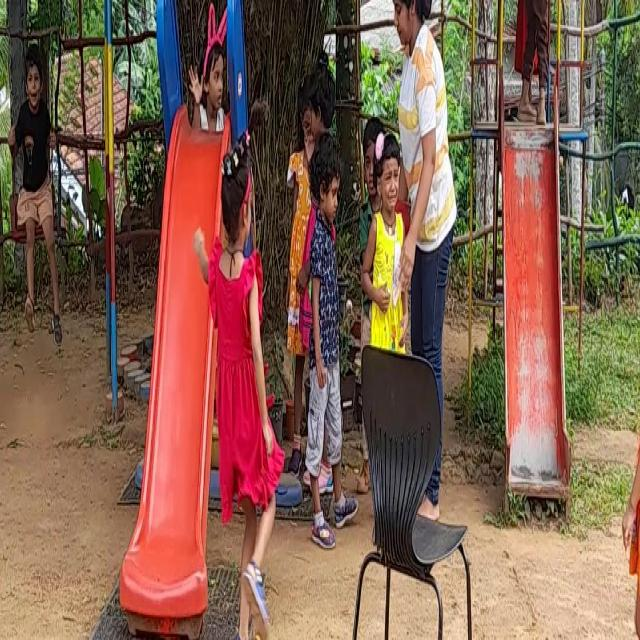child: (208, 136, 267, 640), (299, 142, 351, 532), (11, 4, 63, 357), (610, 175, 640, 640), (512, 0, 564, 128)
